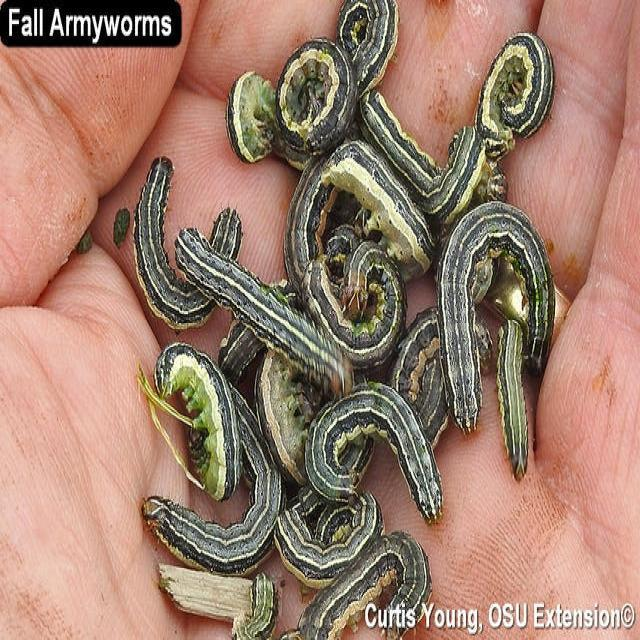army worm: (427, 217, 585, 512), (279, 131, 443, 390), (116, 117, 266, 346), (246, 263, 374, 526), (307, 384, 462, 551), (135, 299, 253, 499), (467, 5, 579, 174), (270, 12, 382, 162), (284, 530, 436, 640), (222, 58, 288, 148)
